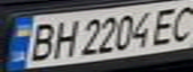0: (115, 10, 139, 53)
2: (78, 15, 103, 57), (100, 12, 121, 55)
4: (130, 8, 160, 48)
B: (21, 20, 60, 63)
C: (166, 2, 193, 43)
E: (148, 4, 184, 46)
H: (45, 16, 81, 60)
